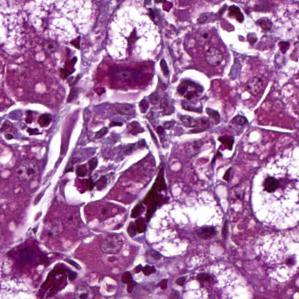ballooning: (143, 193, 225, 259), (249, 144, 298, 231), (105, 7, 164, 61), (22, 3, 99, 44)
